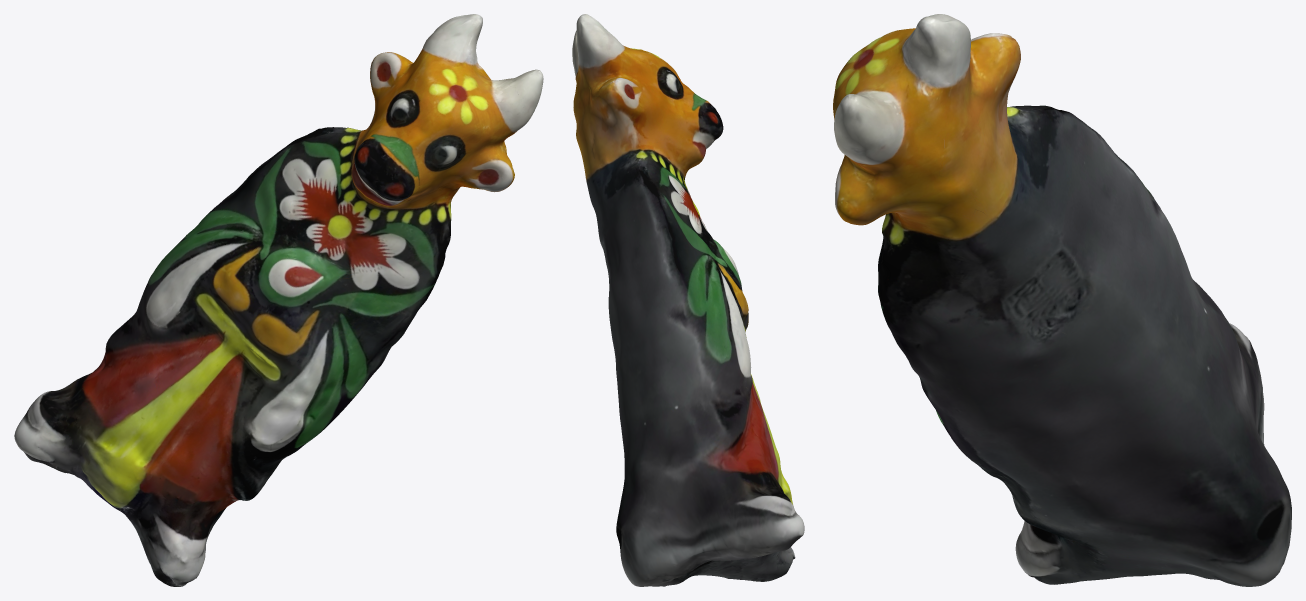
3 views of the same model, side by side, from view 1: azimuth 30°, elevation 25°; view 2: azimuth 150°, elevation 25°; view 3: azimuth 270°, elevation 25° (orthographic). The views are drawn at different scales.
Size of the model in its own units: 0.5922 by 0.7872 by 0.448.
Materials: 1 (1 with a texture image).
